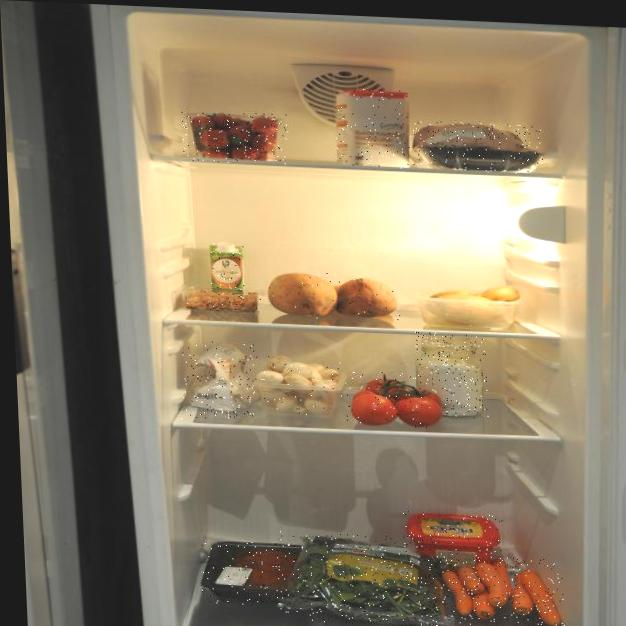beef: (197, 539, 326, 608)
butter: (403, 511, 505, 572)
carrot: (437, 554, 565, 626)
chicken: (410, 120, 545, 175)
flour: (178, 340, 260, 423)
heavy_cream: (209, 241, 246, 307)
mushrooms: (253, 354, 343, 418)
potato: (419, 280, 526, 331)
shrimp: (178, 289, 262, 317)
spinach: (273, 531, 452, 626)
strawberries: (180, 110, 290, 165)
sugar: (415, 332, 489, 419), (335, 88, 412, 169)
sweet_potato: (264, 269, 401, 323)
tomato: (345, 370, 447, 430)
